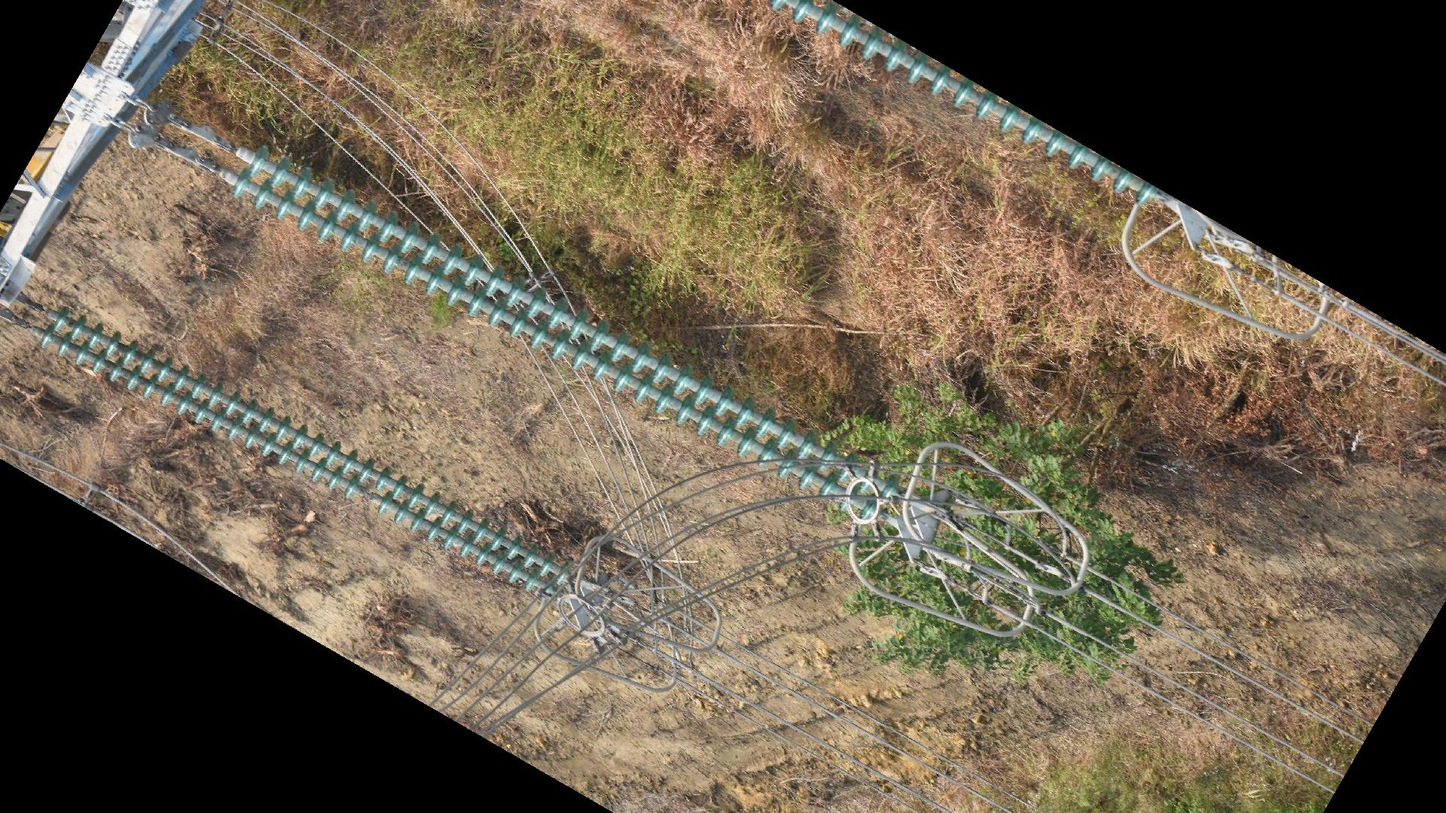insulator: (227, 139, 903, 525), (35, 305, 577, 600), (762, 1, 1164, 212)
insulator_stringdrop: (342, 474, 396, 517)
